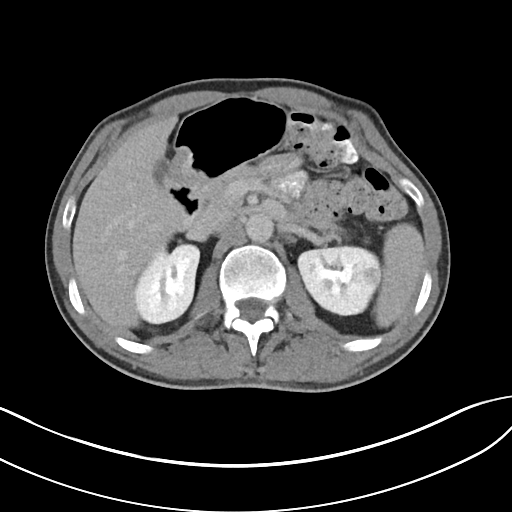Lesion: (359, 265, 381, 286)
